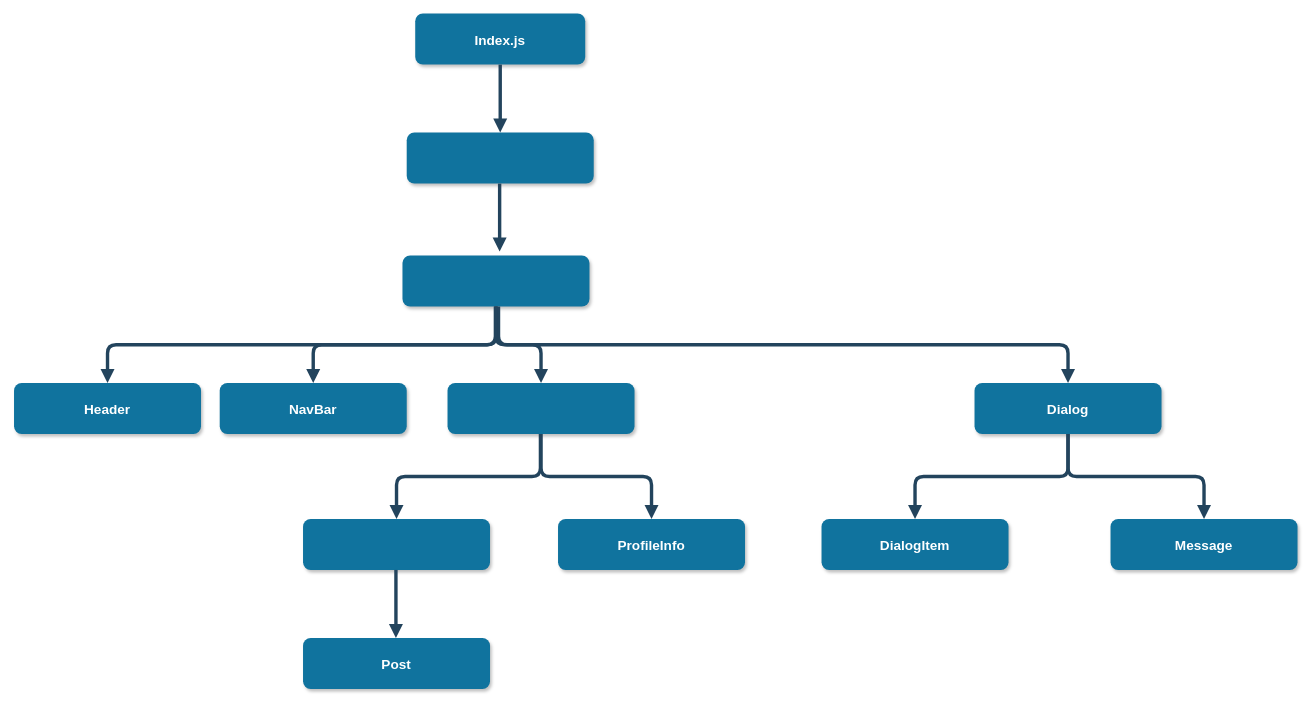
The diagram is 1312 pixels wide and 703 high, and some of its shapes have lost their labels. Each missing label, with the centre of its shape:
"BrowserRouter" belongs at point (496, 282).
"const App" belongs at point (500, 159).
"MyPosts" belongs at point (397, 545).
"Profile" belongs at point (541, 409).
